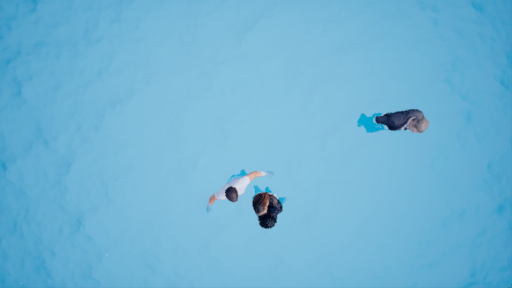person: (189, 151, 271, 202), (360, 101, 443, 144), (244, 187, 301, 235)
